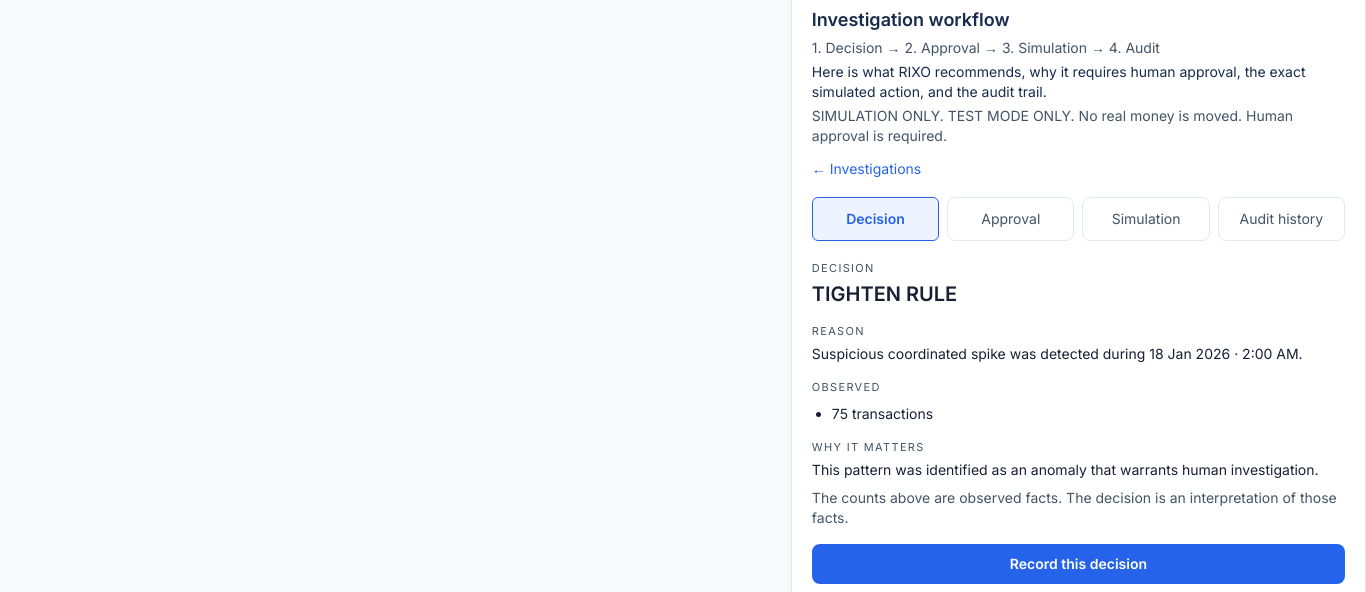
Test: simulation success renders only after the execute API succeeds
This screenshot has width=1366, height=592.
(page scrolled)
Click the button "Record this decision" at (1078, 564), box x1=812 y1=544 x2=1345 y2=584
(page scrolled)
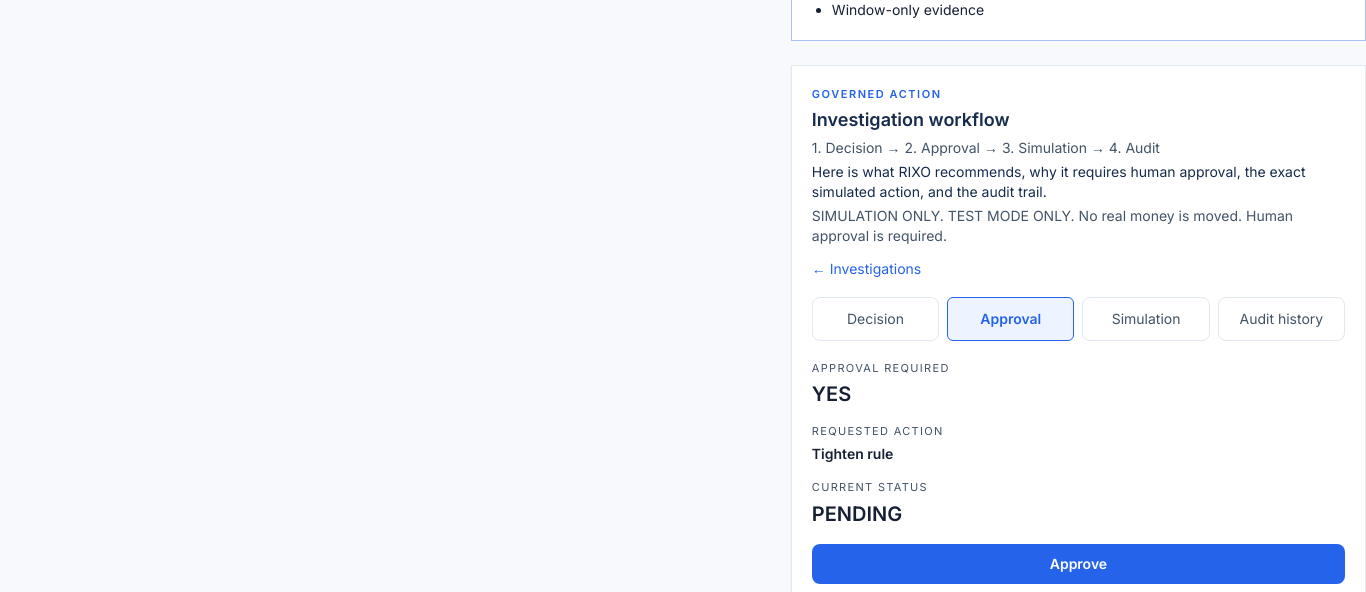
Click the button "Approve" at (1078, 564), box x1=812 y1=544 x2=1345 y2=584
(page scrolled)
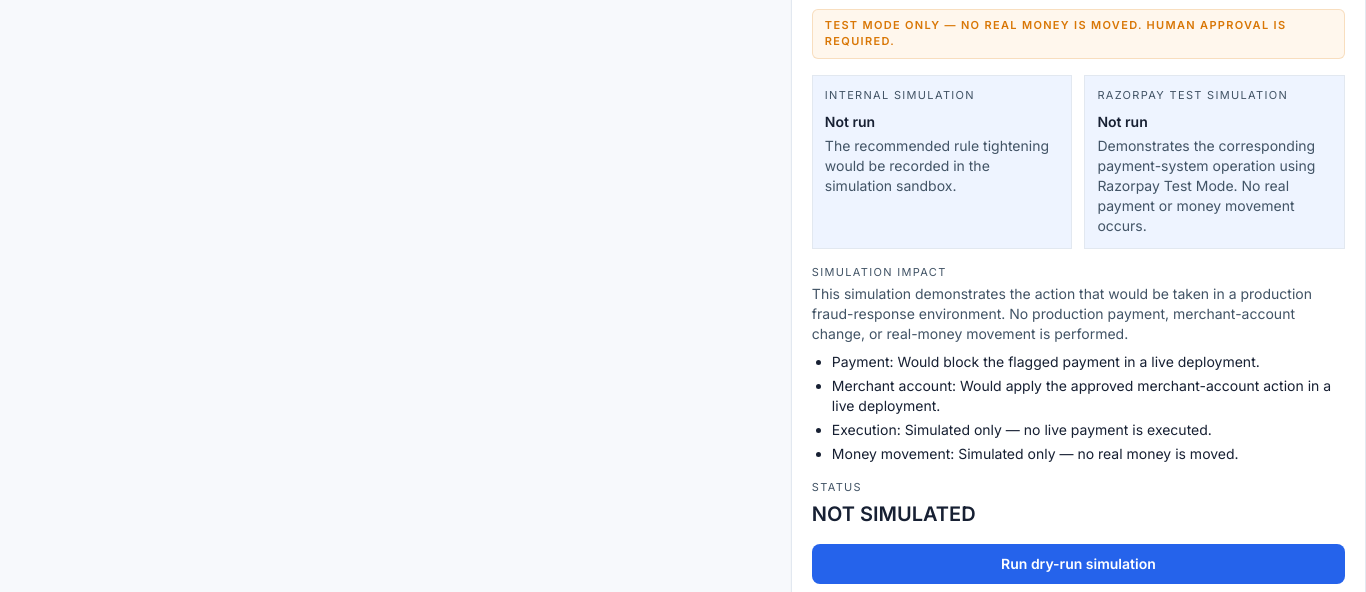
Expected: the text "SIMULATION COMPLETED" is not shown
Click the button "Run dry-run simulation" at (1078, 564), box x1=812 y1=544 x2=1345 y2=584
(page scrolled)
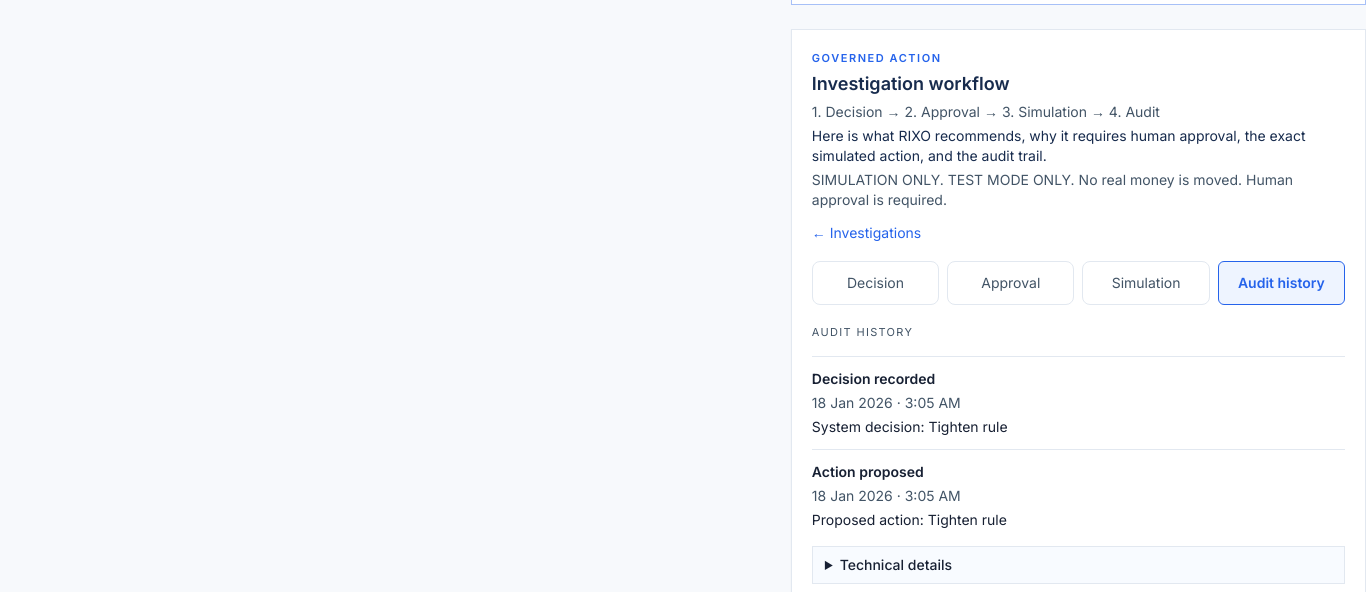
Click the tab "Simulation" at (1146, 283), box x1=1082 y1=261 x2=1210 y2=305
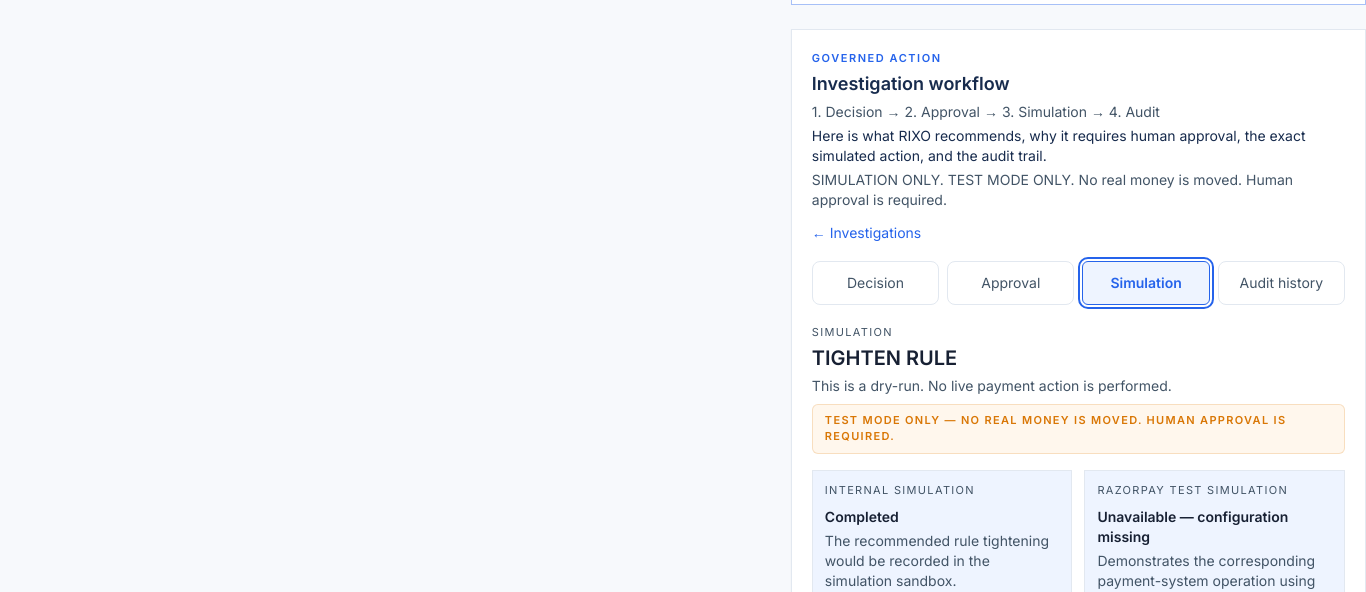
Expected: the text "TEST MODE ONLY" is shown, x1=812 y1=171 x2=1293 y2=208
Expected: the text "Razorpay TEST simulation" is shown, x1=1097 y1=483 x2=1288 y2=497
Expected: the text "Unavailable — configuration missing" is shown, x1=1097 y1=508 x2=1288 y2=544
